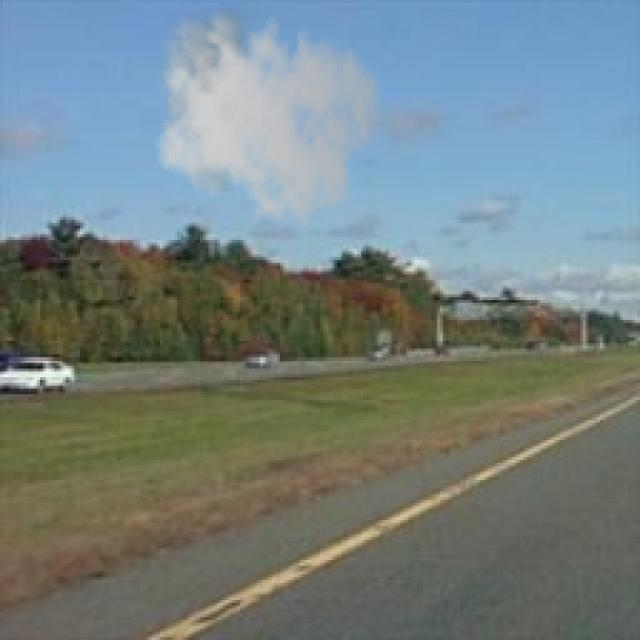Smoke: (148, 0, 383, 229)
